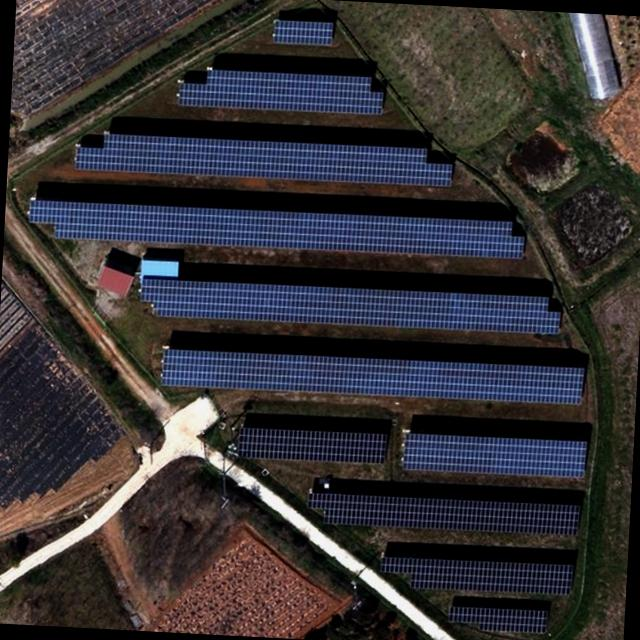solar: (27, 194, 530, 268), (156, 343, 588, 411), (138, 274, 564, 339), (72, 129, 458, 193), (305, 486, 586, 544), (179, 63, 387, 117), (399, 428, 591, 482), (377, 550, 577, 596), (236, 421, 392, 468), (442, 600, 550, 638), (272, 16, 336, 49)
